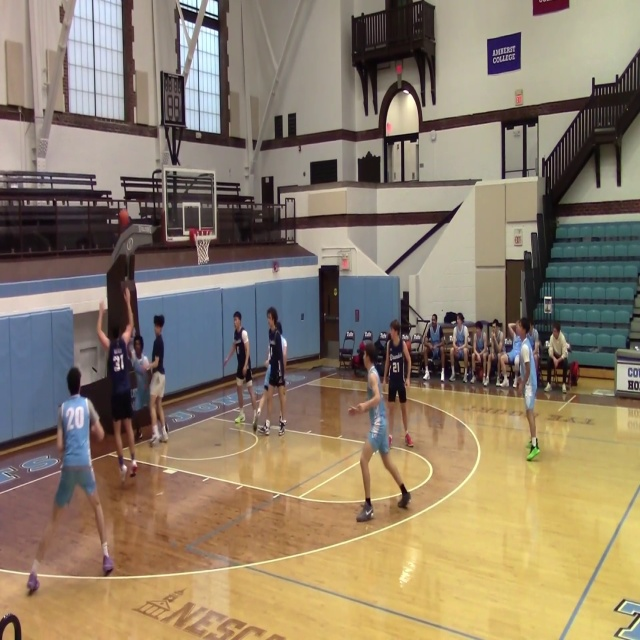Basketball: (118, 209, 131, 230), (348, 407, 357, 415)
